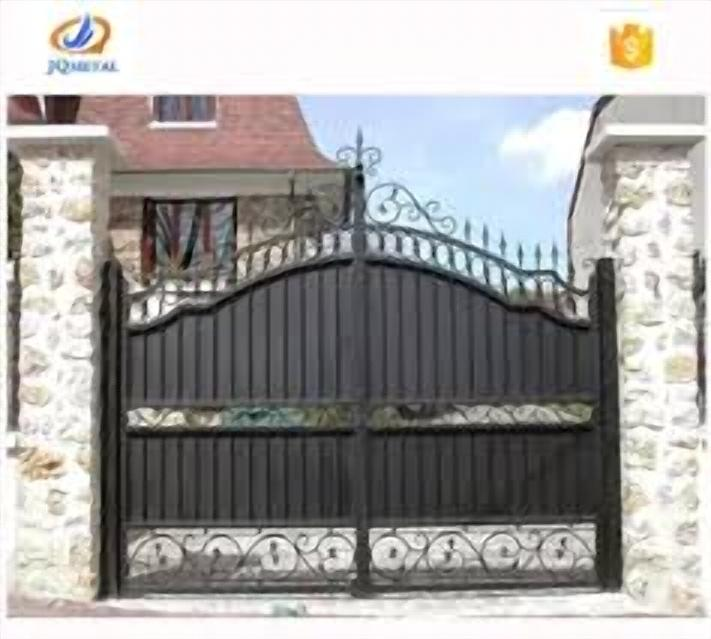Gate: (100, 126, 621, 602)
Window-without-grill: (142, 198, 238, 284), (149, 92, 214, 127)
